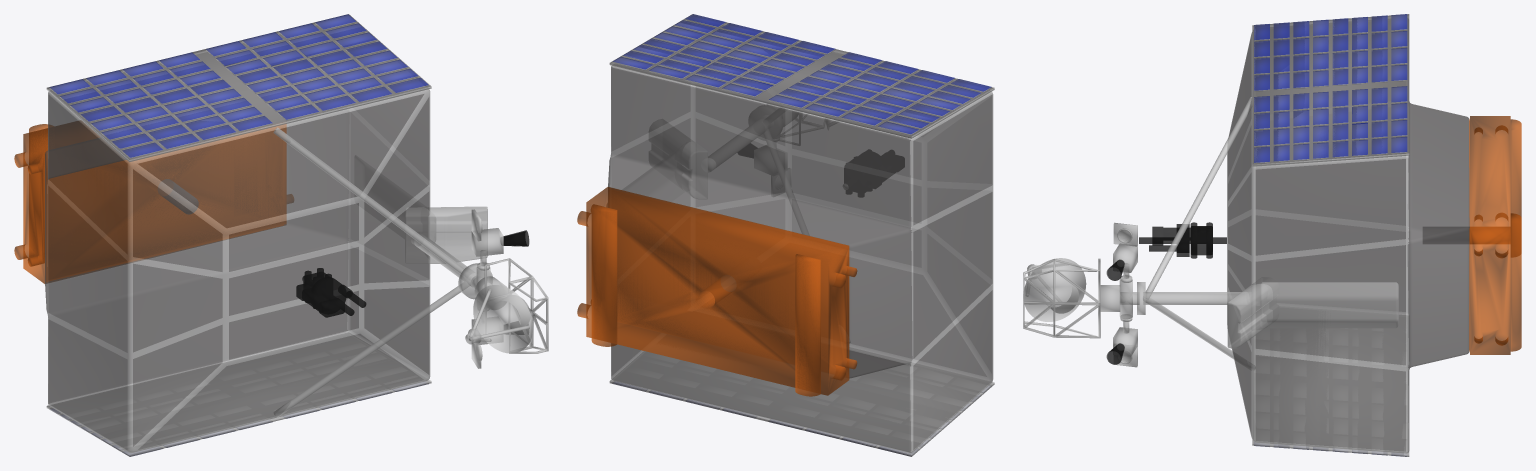
File: viper_chassis_trans.obj
The picture shows the model from 3 angles, left to right: view 1: azimuth 30°, elevation 25°; view 2: azimuth 150°, elevation 25°; view 3: azimuth 270°, elevation 25°; orthographic projection. The views are drawn at different scales.
Visible parts, largest first — view 1: viper_chassis; view 2: viper_chassis; view 3: viper_chassis.
Boxes of the visible parts, bbox=[...] form: viper_chassis: bbox=[14, 14, 548, 456]; viper_chassis: bbox=[577, 14, 994, 456]; viper_chassis: bbox=[1023, 14, 1521, 456].
Size of the model in its own units: 1.75 by 1.53 by 2.26.
